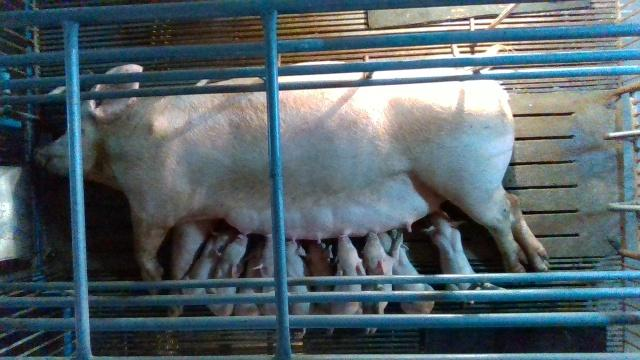piglet: (424, 212, 509, 305), (376, 228, 436, 314), (360, 232, 405, 335), (182, 228, 235, 294), (208, 232, 248, 316), (329, 233, 368, 315), (285, 238, 312, 337), (252, 232, 278, 315), (306, 240, 335, 310)
sow-sleep-lactate: (35, 42, 550, 316)
